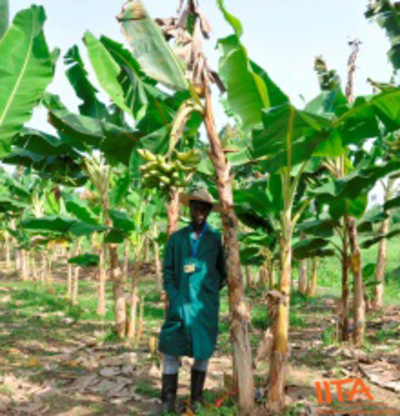bananaHand: (137, 142, 206, 193)
